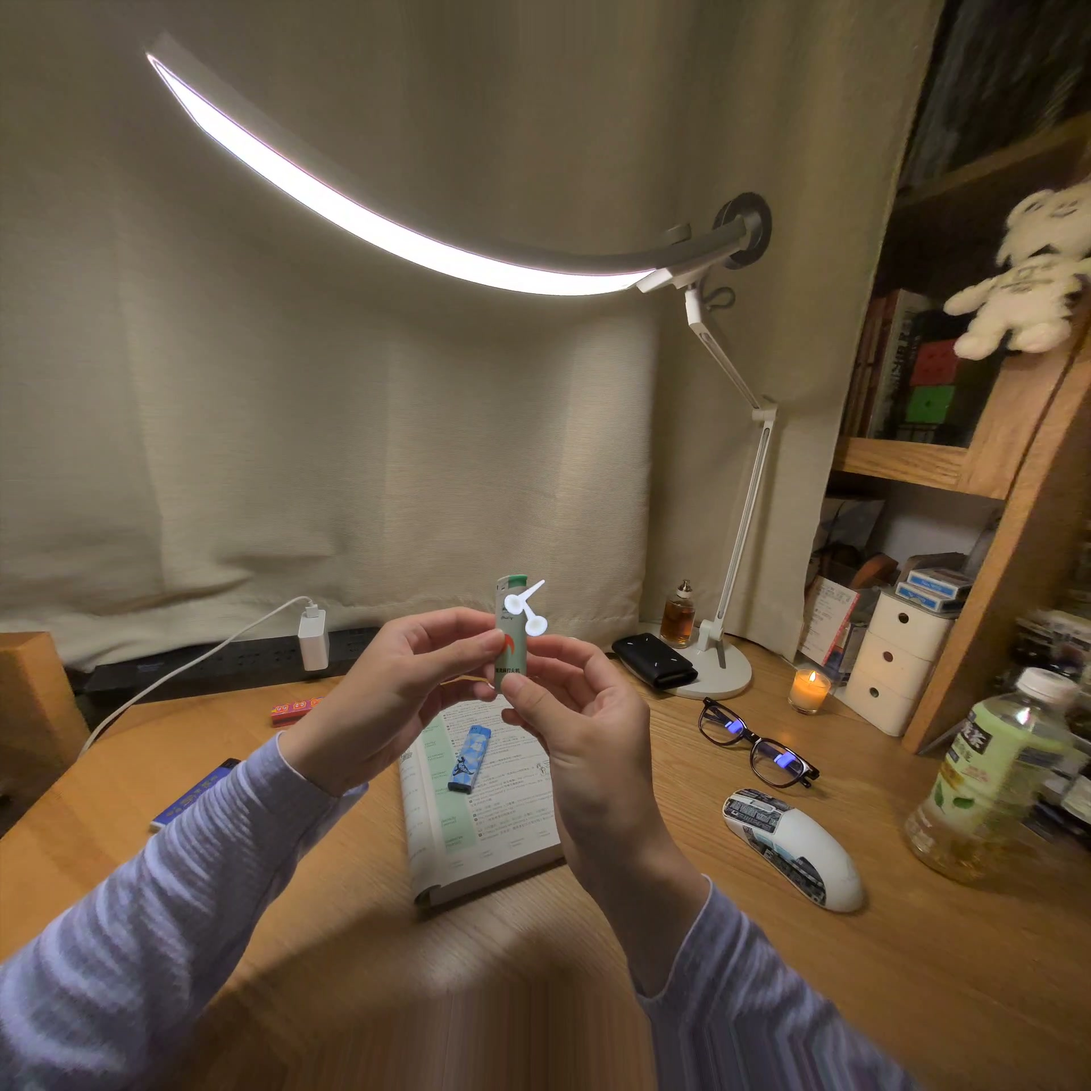lighter: (494, 574, 527, 690)
